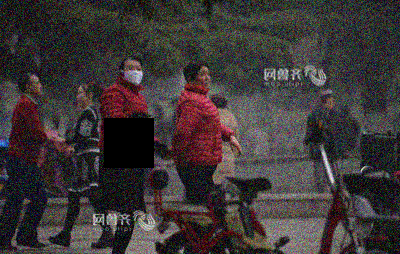with_mask: (123, 63, 144, 85)
without_mask: (193, 67, 212, 89), (31, 77, 44, 96), (75, 89, 88, 105)
